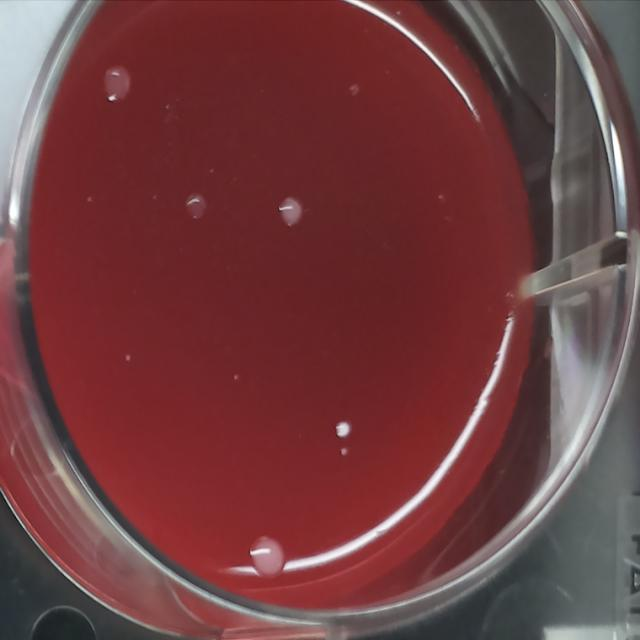Staphylococcus: (332, 416, 352, 442)
